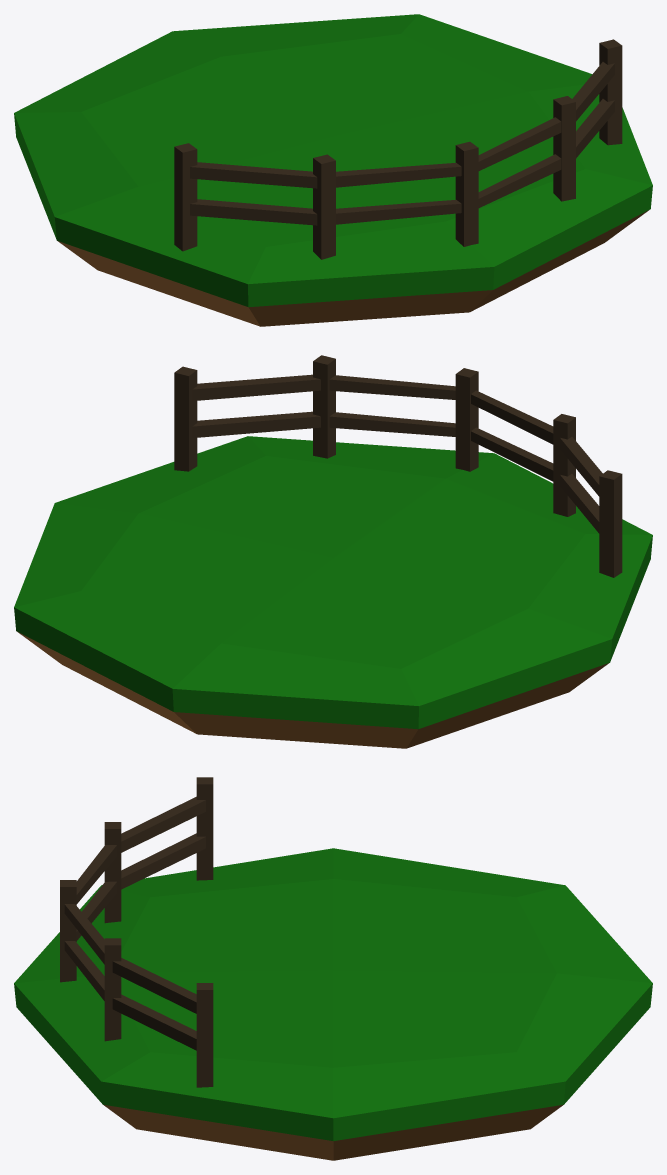
The model's file is Escenario_3.fbx.
The picture shows the model from 3 angles, top to bottom: view 1: azimuth 30°, elevation 25°; view 2: azimuth 150°, elevation 25°; view 3: azimuth 270°, elevation 25°; orthographic projection.
Visible parts, largest first — view 1: Terreno.001, Vayas; view 2: Terreno.001, Vayas; view 3: Terreno.001, Vayas.
Boxes of the visible parts, x1,y1,x2,y2 form: Terreno.001: (14, 14, 652, 326); Vayas: (174, 39, 622, 259); Terreno.001: (14, 436, 652, 748); Vayas: (174, 355, 622, 577); Terreno.001: (14, 848, 652, 1160); Vayas: (60, 777, 213, 1087).
Size of the model in its own units: 377 by 137 by 377.
